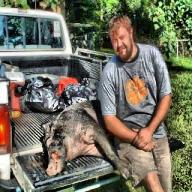boar: (40, 98, 134, 181)
